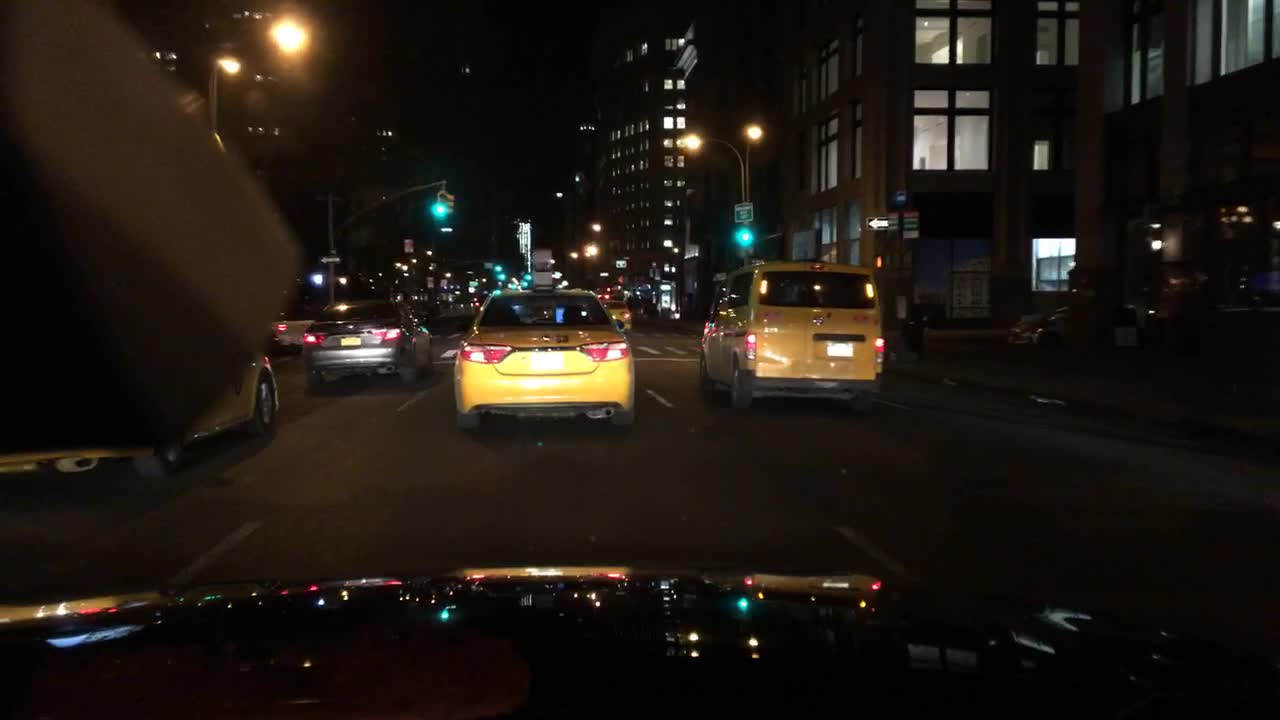car: (2, 340, 281, 482), (450, 250, 637, 430), (697, 258, 888, 415), (301, 299, 434, 389), (1000, 311, 1071, 351), (270, 310, 318, 358), (1112, 307, 1145, 350), (601, 296, 631, 331), (445, 291, 486, 316), (630, 296, 660, 328)
traffic light: (432, 190, 445, 219), (874, 252, 890, 272), (446, 194, 456, 219), (737, 225, 749, 244), (496, 265, 506, 273)
traffic sign: (863, 215, 897, 232), (902, 214, 920, 239), (733, 202, 754, 223), (886, 192, 907, 205), (318, 257, 341, 267), (615, 258, 626, 269)
